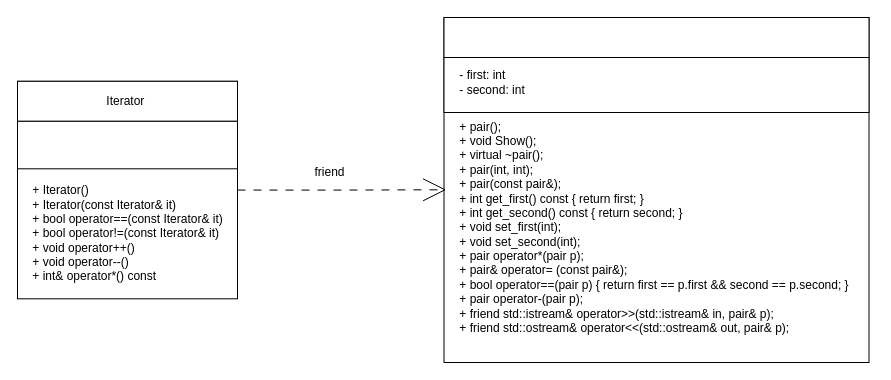
Some shapes in this 891 by 380 pixel diagram are drawn without their labels. The box of each missing label's shape, as (x1, y1, x2, y2) in pixels:
- elem : int*: (16, 120, 238, 169)
pair: (443, 16, 869, 58)
